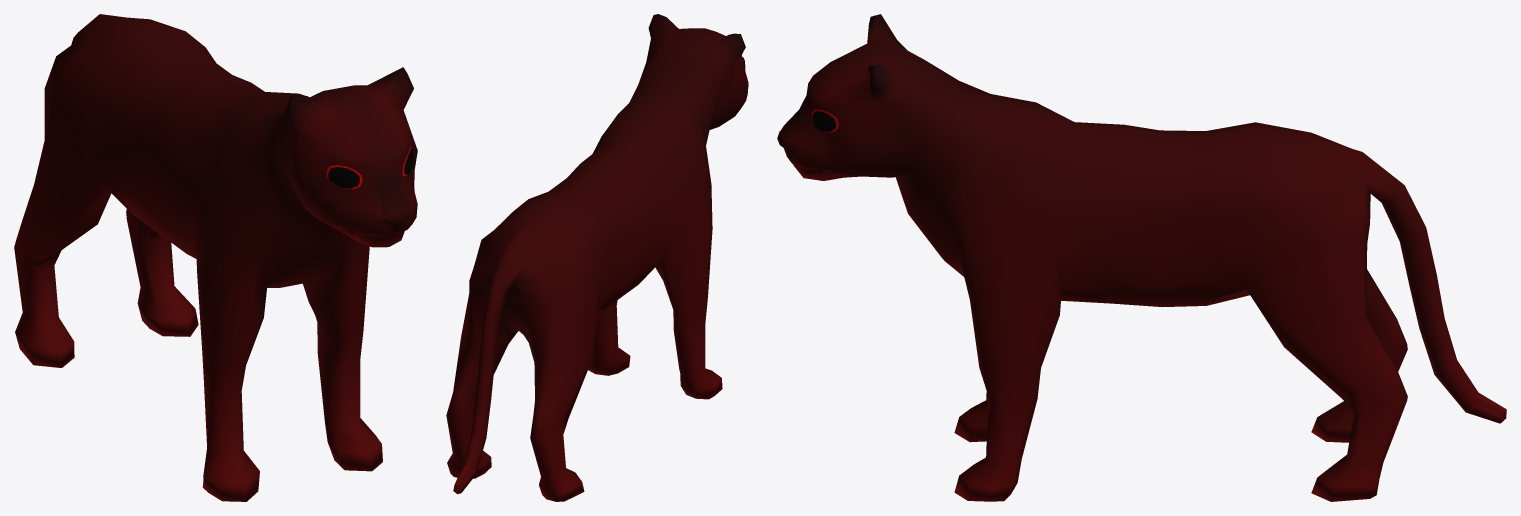
File: Animals_BlackPanther.fbx
3 renders of one model, left to right at view 1: azimuth 30°, elevation 25°; view 2: azimuth 150°, elevation 25°; view 3: azimuth 270°, elevation 25°, orthographic. The views are drawn at different scales.
Visible parts, largest first — view 1: base; view 2: base; view 3: base.
Part boxes in pixels (x1,y1,x2,y2): base: [14, 14, 417, 501]; base: [446, 14, 748, 501]; base: [777, 14, 1506, 501].
Size of the model in its own units: 48.31 by 116 by 182.
